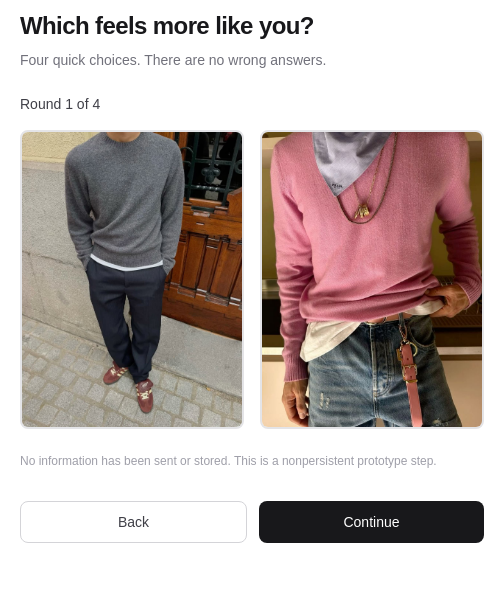
Test: WishboneFlow — selection and validation › clears a previously shown error once a selection is made
The image size is (504, 595).
Click the button "Continue". click: (372, 522)
box: x1=259 y1=501 x2=484 y2=543
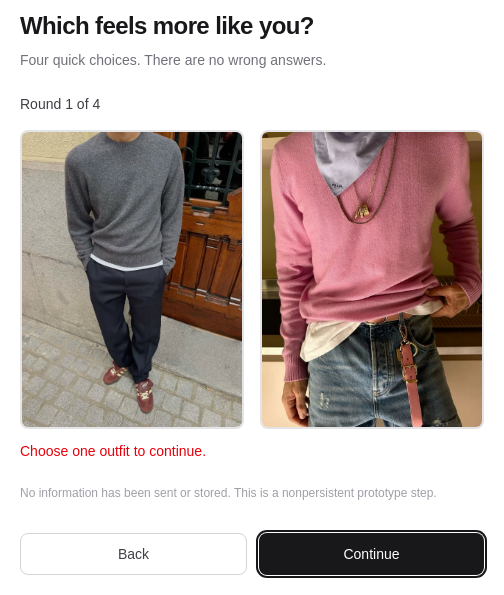
Check: the message "Choose one outfit to continue." is shown, box x1=20 y1=443 x2=206 y2=459
Click the 1st button. click: (132, 279)
box: x1=20 y1=130 x2=244 y2=429
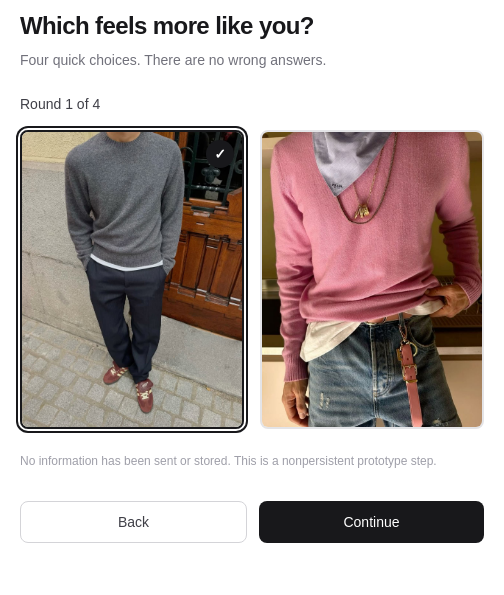
Check: the message "Choose one outfit to continue." is gone
